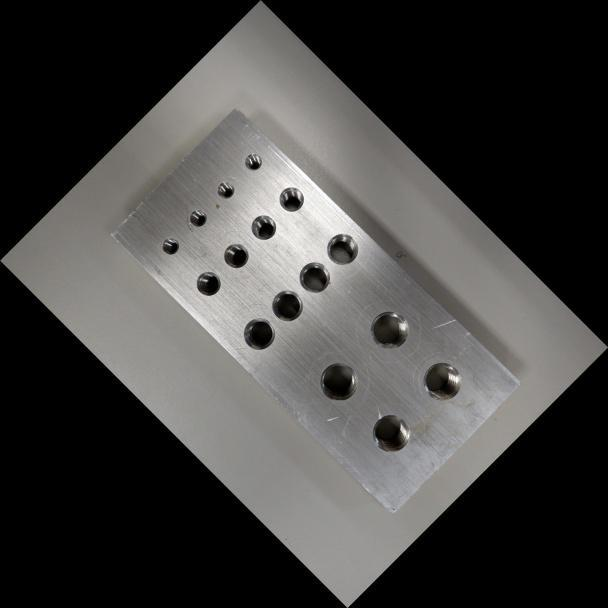hole: (413, 352, 471, 410), (360, 301, 418, 358), (309, 353, 367, 410), (362, 405, 418, 461), (290, 253, 338, 301), (235, 310, 282, 357), (318, 226, 365, 272), (264, 282, 310, 328), (216, 236, 255, 275), (272, 180, 311, 218), (244, 208, 282, 246), (189, 265, 227, 302), (239, 147, 266, 175), (184, 204, 210, 231), (212, 177, 238, 203), (157, 233, 183, 259)
